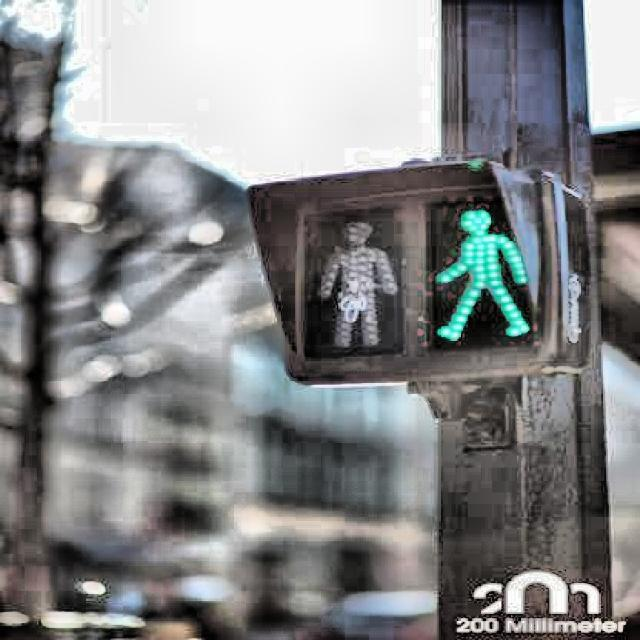semaforo pedestre: (152, 116, 634, 427)
